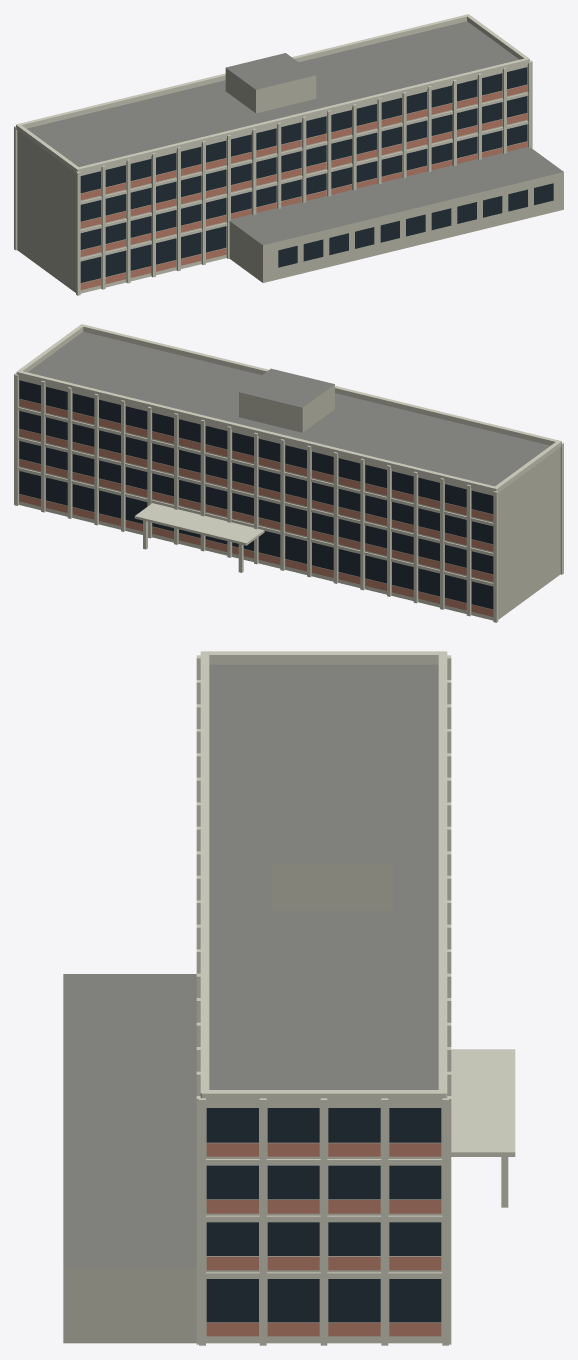
The model's file is missouri-pacific-hospital-wing-1960.glb.
3 renders of one model, top to bottom at view 1: azimuth 30°, elevation 25°; view 2: azimuth 150°, elevation 25°; view 3: azimuth 270°, elevation 25°, orthographic. The views are drawn at different scales.
Parts seen in each view (by area): view 1: missouri_roof, missouri_glass, missouri_conc, missouri_conc2, missouri_salmon; view 2: missouri_conc, missouri_glass, missouri_roof, missouri_salmon, missouri_conc2; view 3: missouri_roof, missouri_conc, missouri_glass, missouri_conc2, missouri_salmon.
Part boxes in pixels (<box>): missouri_roof: <box>27,21,563,245</box>; missouri_glass: <box>80,67,553,282</box>; missouri_conc: <box>14,14,532,295</box>; missouri_conc2: <box>17,68,563,292</box>; missouri_salmon: <box>80,85,527,289</box>; missouri_conc: <box>14,324,563,622</box>; missouri_glass: <box>19,380,493,609</box>; missouri_roof: <box>28,331,550,486</box>; missouri_salmon: <box>19,399,493,616</box>; missouri_conc2: <box>239,384,560,619</box>; missouri_roof: <box>63,664,438,1267</box>; missouri_conc: <box>196,651,515,1345</box>; missouri_glass: <box>206,1108,441,1322</box>; missouri_conc2: <box>63,864,393,1343</box>; missouri_salmon: <box>206,1143,441,1336</box>.
Size of the model in its own units: 60.52 by 18.3 by 26.03.
